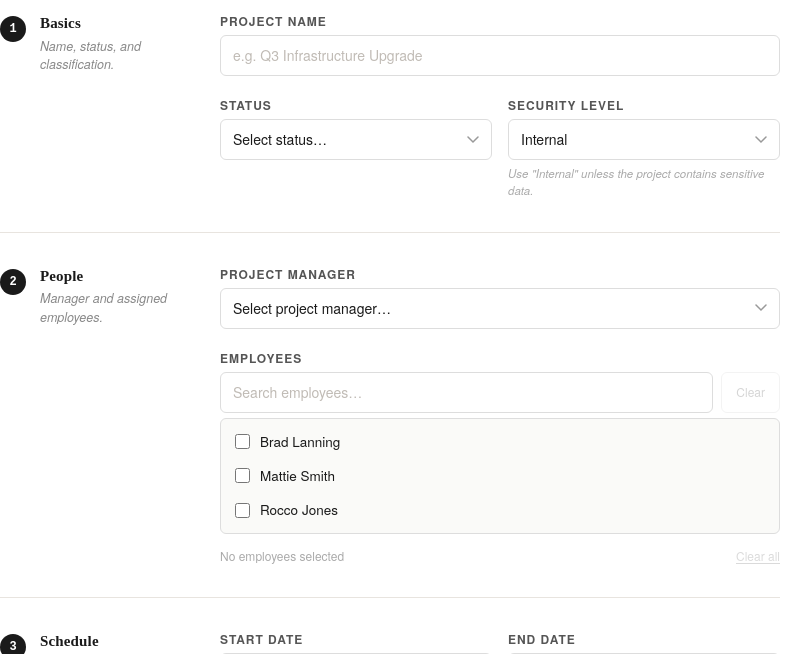
ProjectFormFields › filters the employee list using the search input
This screenshot has width=797, height=654.
Type "matt" into the field with placeholder "Search employees…" at (467, 392), box [220,372,713,412]
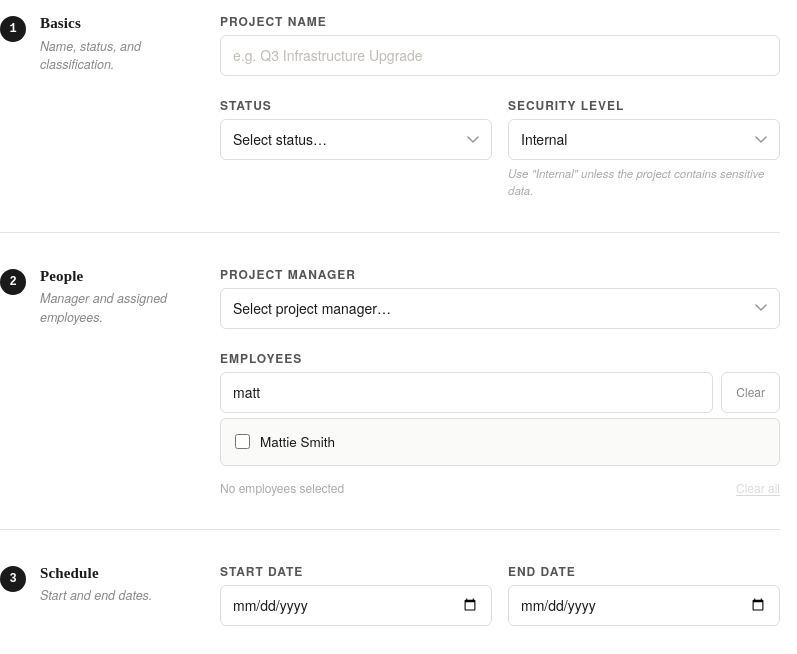
Check: the checkbox labelled "Mattie Smith" is shown, box [235,434,250,449]
Check: the label labelled "Brad Lanning" is gone
Check: the label labelled "Rocco Jones" is gone
